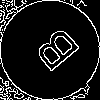B: (25, 25, 82, 80)
